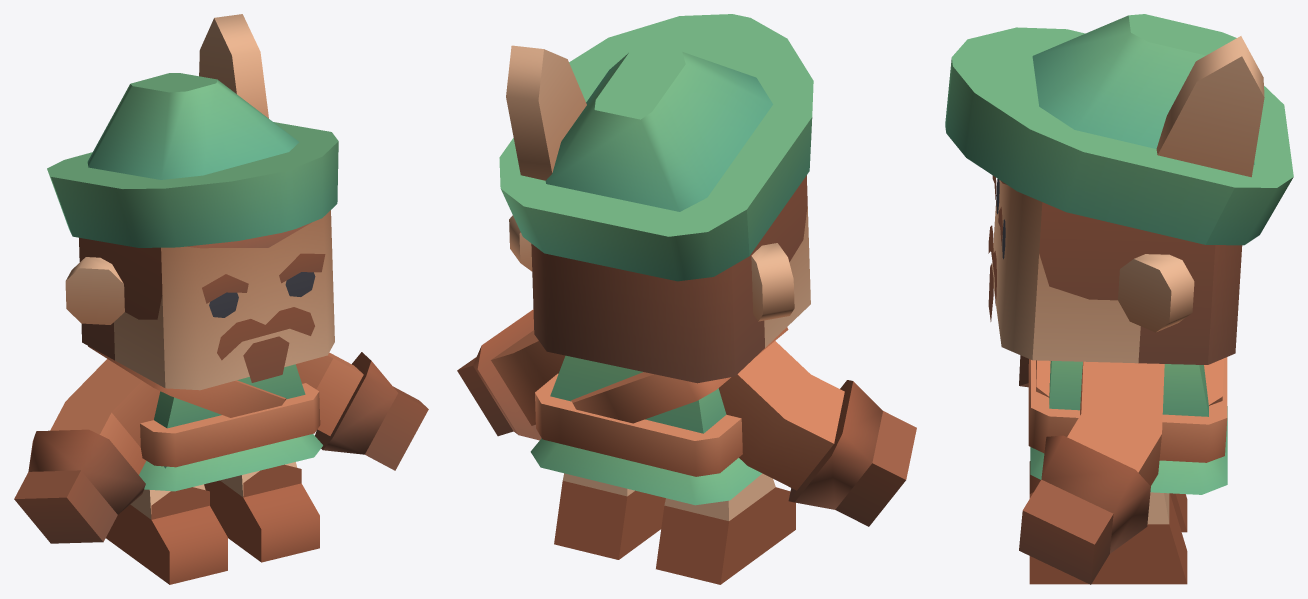
The model's file is toy-samurai-body.glb.
The picture shows the model from 3 angles, left to right: view 1: azimuth 30°, elevation 25°; view 2: azimuth 150°, elevation 25°; view 3: azimuth 270°, elevation 25°; orthographic projection. The views are drawn at different scales.
Size of the model in its own units: 0.9076 by 1 by 0.5848.
Materials: 1 (1 with a texture image).
